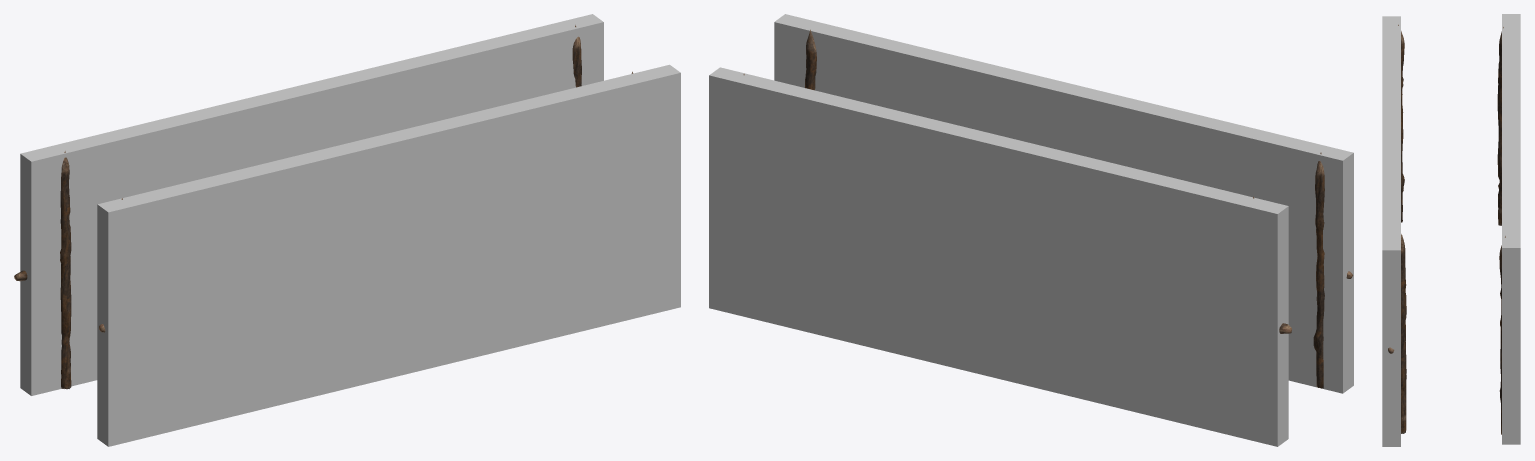
File: SM_wood_stand_01.fbx
3 views of the same model, side by side, from view 1: azimuth 30°, elevation 25°; view 2: azimuth 150°, elevation 25°; view 3: azimuth 270°, elevation 25° (orthographic). The views are drawn at different scales.
Parts seen in each view (by area): view 1: SM_wood_stand_01_ConvexHulls, SM_wood_stand_01; view 2: SM_wood_stand_01_ConvexHulls, SM_wood_stand_01; view 3: SM_wood_stand_01_ConvexHulls, SM_wood_stand_01.
Part boxes in pixels (<box>): SM_wood_stand_01_ConvexHulls: <box>20,14,680,446</box>; SM_wood_stand_01: <box>14,25,633,389</box>; SM_wood_stand_01_ConvexHulls: <box>709,14,1353,446</box>; SM_wood_stand_01: <box>743,29,1352,388</box>; SM_wood_stand_01_ConvexHulls: <box>1382,14,1520,446</box>; SM_wood_stand_01: <box>1388,24,1505,434</box>.
Size of the model in its own units: 255 by 61.67 by 97.9.
2 materials, 1 textured.
